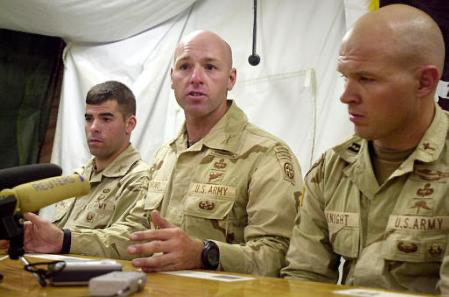Face: (330, 28, 408, 142), (173, 41, 232, 122), (80, 103, 127, 159)
